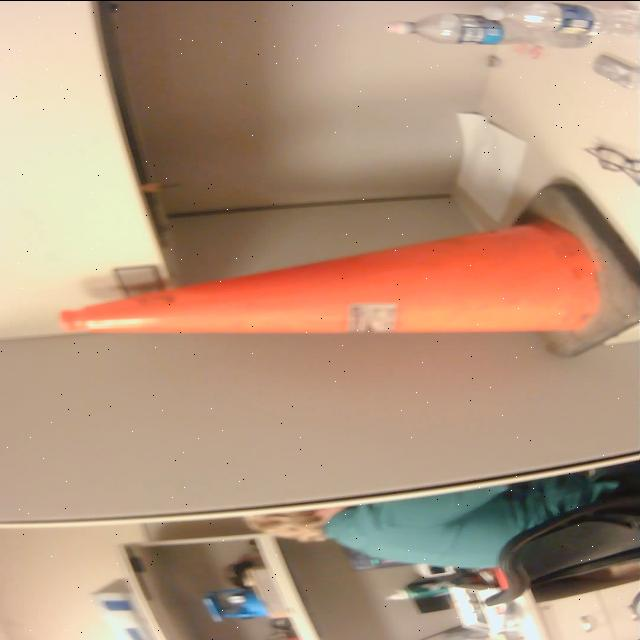traffic cone: (55, 180, 640, 362)
